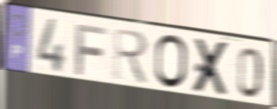0: (236, 47, 265, 100)
4: (35, 17, 68, 75)
F: (74, 21, 110, 78)
O: (153, 33, 189, 91)
R: (112, 26, 151, 88)
X: (191, 37, 231, 98)
